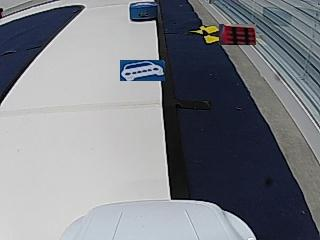prop: (130, 1, 157, 22)
